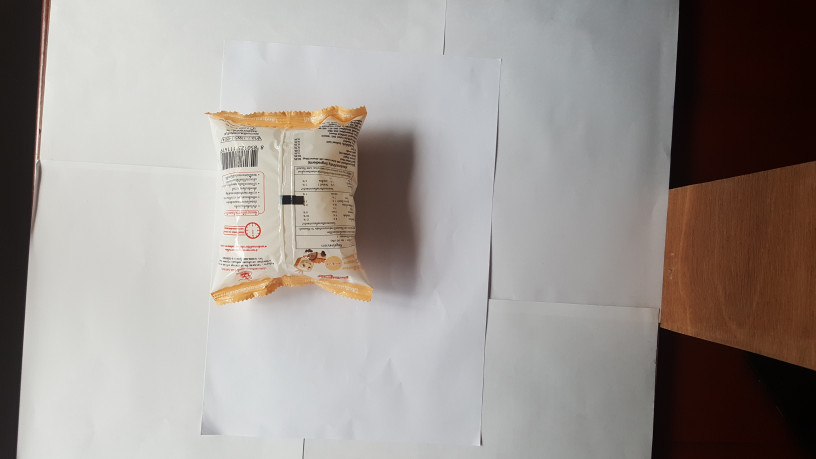farmhouse-sweetsandwich-almond: (201, 104, 377, 313)
